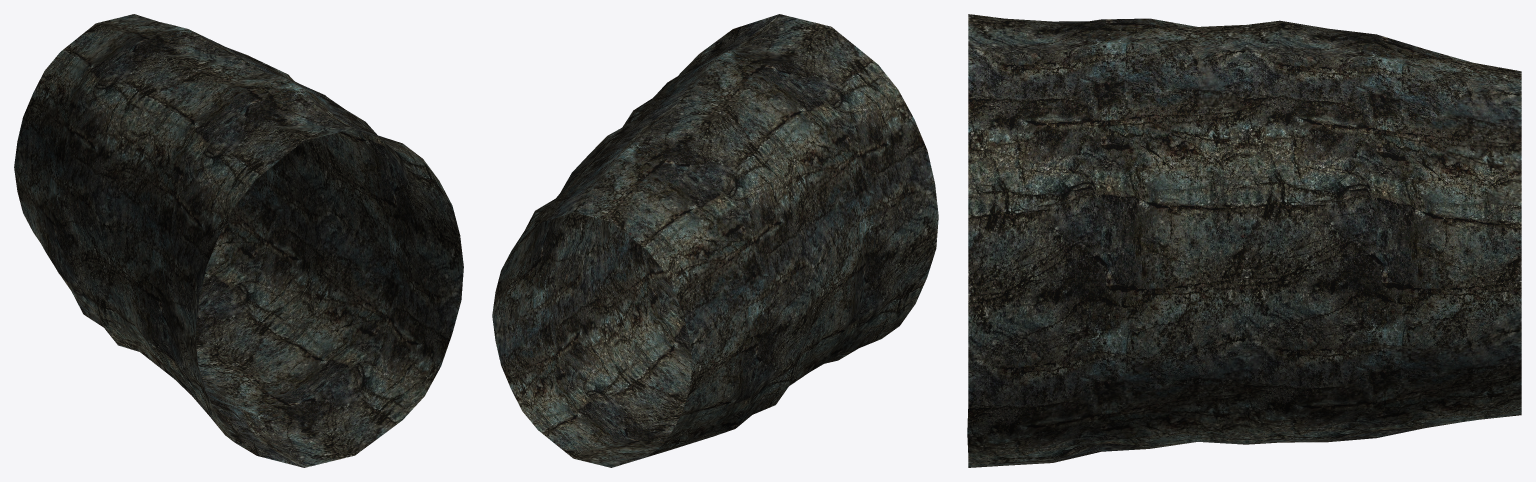
Rendered from tunnel_theta_straight_tr_small-med.dae.
The picture shows the model from 3 angles, left to right: view 1: azimuth 30°, elevation 25°; view 2: azimuth 150°, elevation 25°; view 3: azimuth 270°, elevation 25°; orthographic projection. The views are drawn at different scales.
Visible parts, largest first — view 1: straight_tr_small-large; view 2: straight_tr_small-large; view 3: straight_tr_small-large.
Part boxes in pixels (left/top/right/bottom): straight_tr_small-large: left=14, top=14, right=463, bottom=467; straight_tr_small-large: left=492, top=14, right=938, bottom=467; straight_tr_small-large: left=967, top=14, right=1521, bottom=467.
Bounding box in the file's own units: 4.33 × 5.05 × 6.01.
